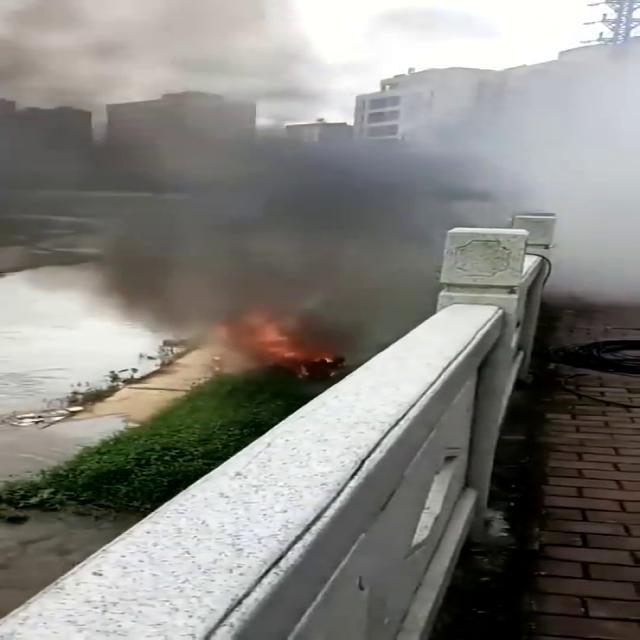Fire: (176, 321, 334, 376)
Smoke: (0, 6, 640, 320)
